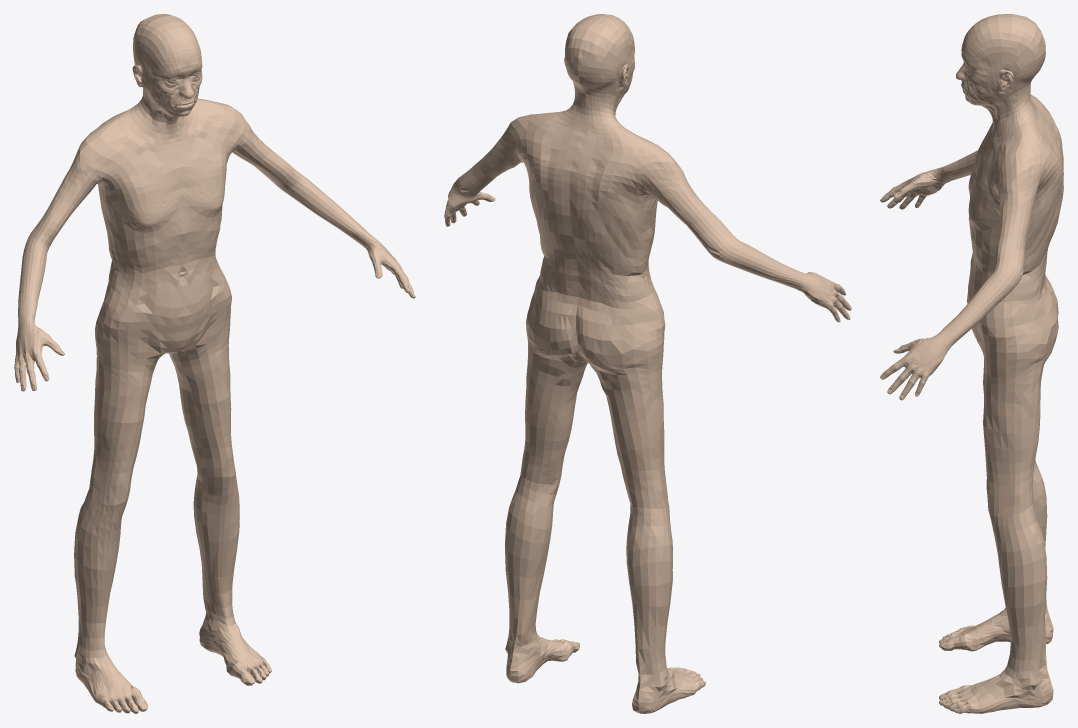
Rendered from male-elder-lean-toned.glb.
3 renders of one model, left to right at view 1: azimuth 30°, elevation 25°; view 2: azimuth 150°, elevation 25°; view 3: azimuth 270°, elevation 25°, orthographic.
Parts seen in each view (by area): view 1: world; view 2: world; view 3: world.
Part boxes in pixels (x1,y1,x2,y2): world: (14,14,415,713); world: (444,14,851,713); world: (880,14,1063,713).
Size of the model in its own units: 1.2 by 1.92 by 0.4858.
